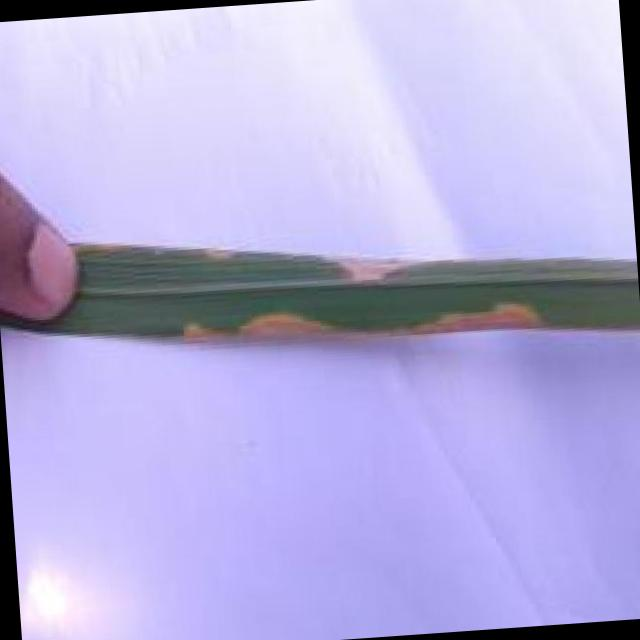Rice_Bacterial_Blight: (130, 233, 589, 387)
